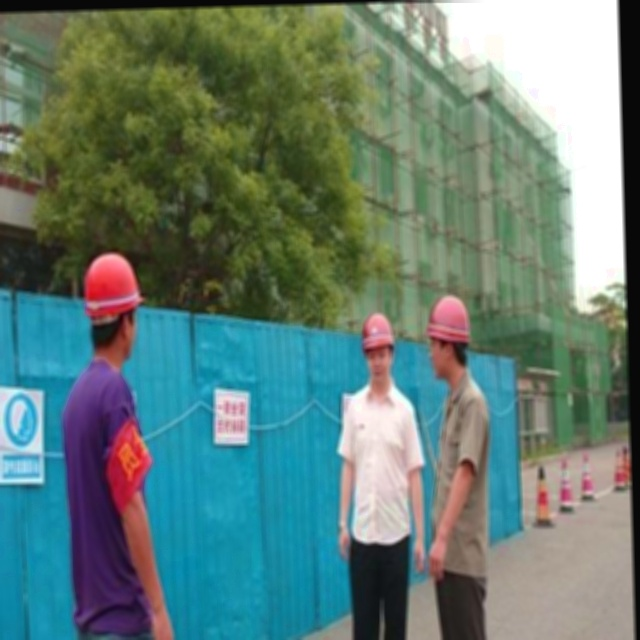Sin_Chaleco: (60, 360, 155, 620), (336, 380, 426, 551), (424, 378, 496, 574)
